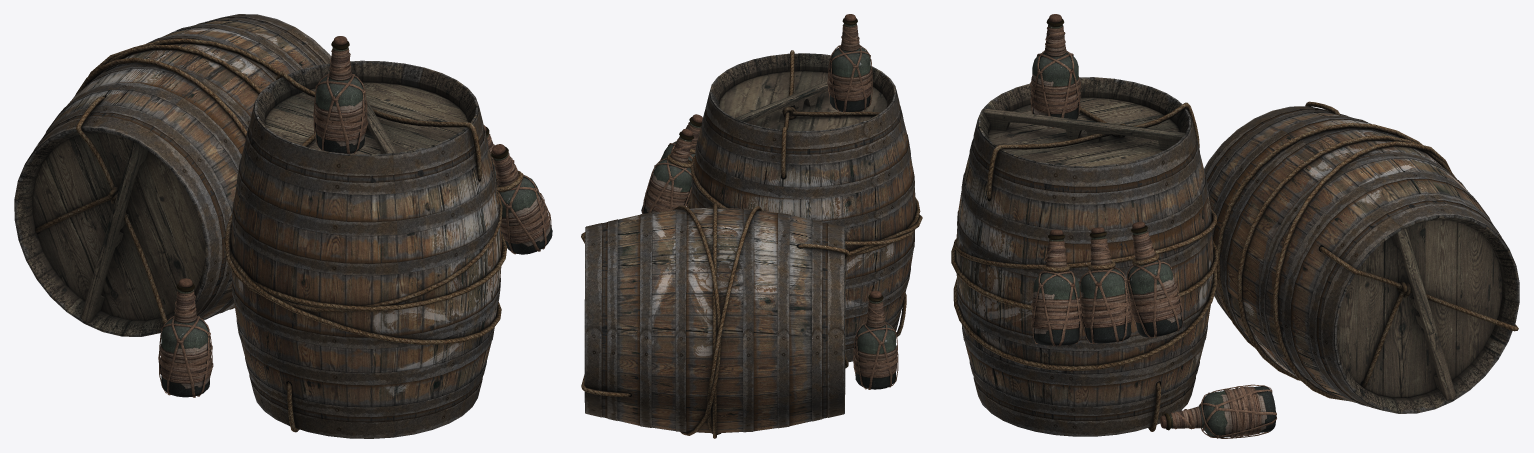
The model's file is Barrels.obj.
3 renders of one model, left to right at view 1: azimuth 30°, elevation 25°; view 2: azimuth 150°, elevation 25°; view 3: azimuth 270°, elevation 25°, orthographic. The views are drawn at different scales.
Parts seen in each view (by area): view 1: Prop_Barrel, Prop_Barrel.001, Prop_Bottle.002, Prop_Bottle, Prop_BarrelBottles; view 2: Prop_Barrel.001, Prop_Barrel, Prop_Bottle.002, Prop_Bottle, Prop_BarrelBottles; view 3: Prop_Barrel.001, Prop_Barrel, Prop_BarrelBottles, Prop_Bottle.001, Prop_Bottle.
Part boxes in pixels (left/top/right/bottom): Prop_Barrel: left=224, top=60, right=507, bottom=438; Prop_Barrel.001: left=14, top=14, right=331, bottom=336; Prop_Bottle.002: left=158, top=278, right=213, bottom=397; Prop_Bottle: left=313, top=36, right=368, bottom=153; Prop_BarrelBottles: left=483, top=125, right=552, bottom=254; Prop_Barrel.001: left=581, top=203, right=849, bottom=438; Prop_Barrel: left=687, top=50, right=922, bottom=362; Prop_Bottle.002: left=853, top=290, right=898, bottom=389; Prop_Bottle: left=827, top=14, right=872, bottom=111; Prop_BarrelBottles: left=641, top=114, right=702, bottom=213; Prop_Barrel.001: left=1204, top=101, right=1519, bottom=413; Prop_Barrel: left=951, top=77, right=1218, bottom=436; Prop_BarrelBottles: left=1031, top=221, right=1183, bottom=346; Prop_Bottle.001: left=1160, top=384, right=1276, bottom=438; Prop_Bottle: left=1030, top=14, right=1080, bottom=128.
Size of the model in its own units: 3.8 by 3.75 by 5.33.
Materials: 2 (2 with a texture image).
